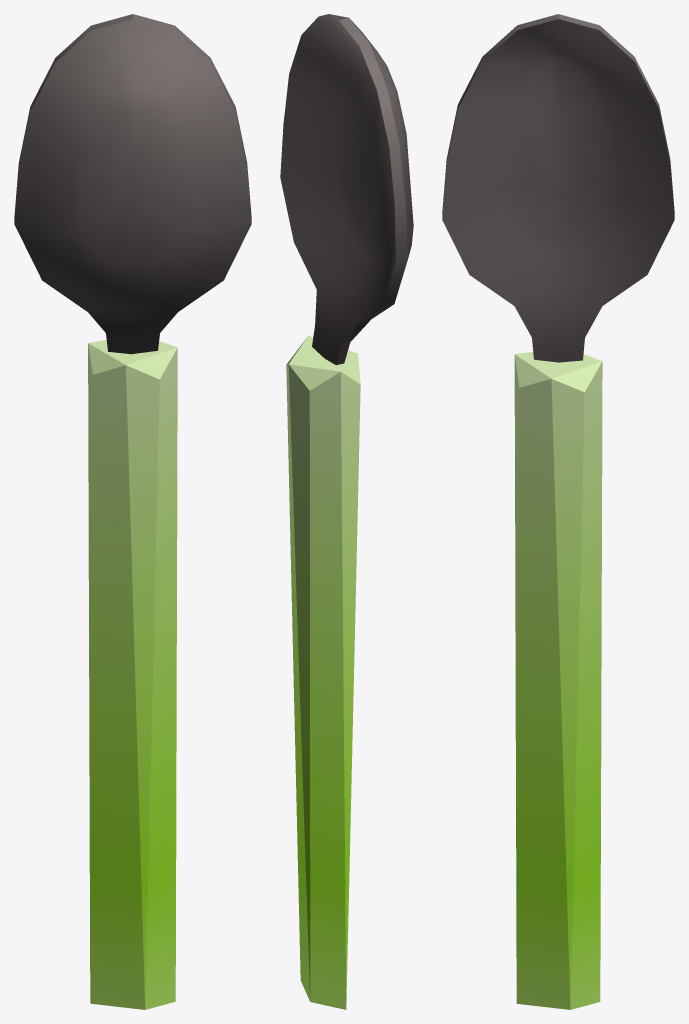
Rendered from Spoon.fbx.
3 renders of one model, left to right at view 1: azimuth 90°, elevation 25°; view 2: azimuth 210°, elevation 25°; view 3: azimuth 270°, elevation 25°, orthographic. The views are drawn at different scales.
Parts seen in each view (by area): view 1: Spoon; view 2: Spoon; view 3: Spoon.
Part boxes in pixels (x1,y1,x2,y2): Spoon: [14, 14, 251, 1009]; Spoon: [280, 14, 413, 1009]; Spoon: [442, 14, 674, 1009].
Bounding box in the file's own units: 55.12 × 521 × 112.
